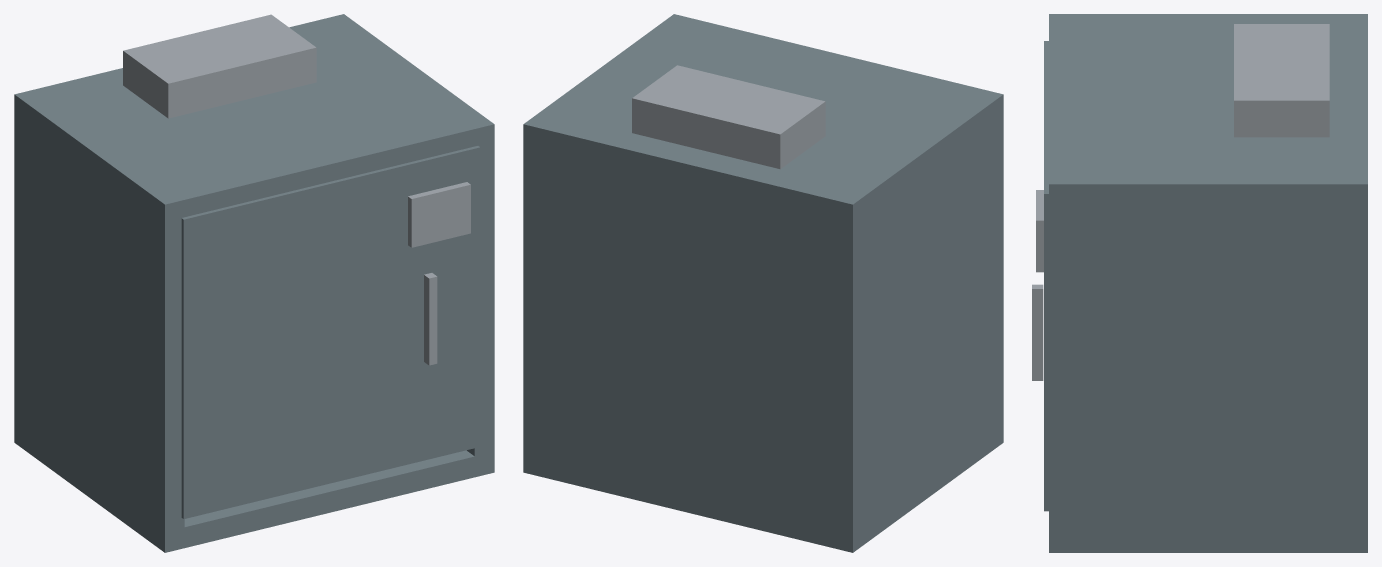
3 renders of one model, left to right at view 1: azimuth 30°, elevation 25°; view 2: azimuth 150°, elevation 25°; view 3: azimuth 270°, elevation 25°, orthographic. The views are drawn at different scales.
Visible parts, largest first — view 1: g0.002, g0.007, g0.001, g0.006, g0.008, g0, g0.005, g0.003; view 2: g0.004, g0.007, g0.001, g0.006, g0; view 3: g0, g0.001, g0.006, g0.002, g0.003, g0.004, g0.005.
Boxes of the visible parts, left/top/right/bottom form: g0.002: left=181, top=146, right=480, bottom=518; g0.007: left=14, top=94, right=184, bottom=552; g0.001: left=15, top=14, right=493, bottom=218; g0.006: left=123, top=14, right=316, bottom=118; g0.008: left=114, top=450, right=483, bottom=552; g0: left=467, top=124, right=494, bottom=476; g0.005: left=408, top=182, right=470, bottom=247; g0.003: left=424, top=273, right=437, bottom=365; g0.004: left=523, top=125, right=853, bottom=552; g0.007: left=833, top=94, right=1003, bottom=552; g0.001: left=524, top=14, right=1002, bottom=221; g0.006: left=632, top=65, right=825, bottom=169; g0: left=523, top=124, right=543, bottom=477; g0: left=1049, top=184, right=1367, bottom=552; g0.001: left=1049, top=14, right=1367, bottom=193; g0.006: left=1234, top=24, right=1329, bottom=137; g0.002: left=1044, top=41, right=1048, bottom=511; g0.003: left=1032, top=284, right=1043, bottom=380; g0.004: left=1348, top=118, right=1367, bottom=552; g0.005: left=1036, top=190, right=1043, bottom=272.
Bounding box in the file's own units: 1.8 × 2 × 1.5.
